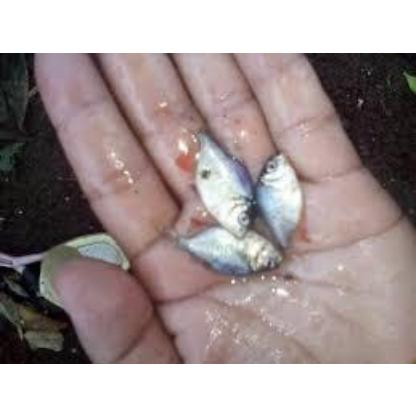ikan-pacu: (193, 131, 254, 235), (172, 222, 284, 276), (256, 146, 302, 246)
